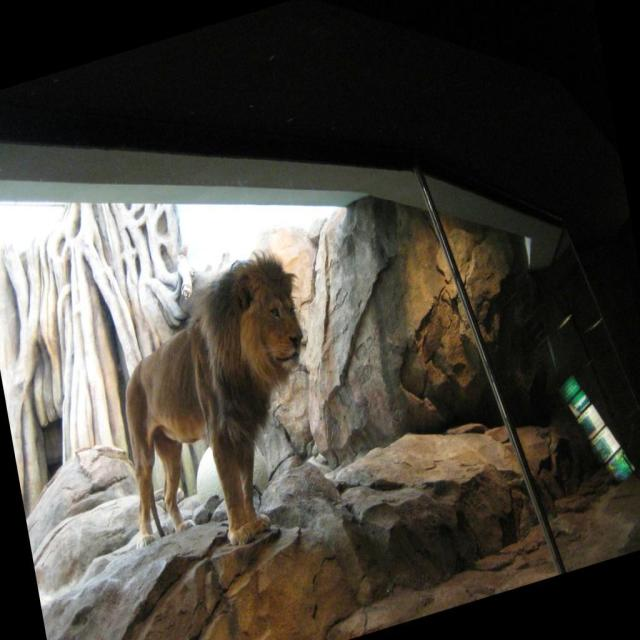Lion: (94, 237, 338, 578)
